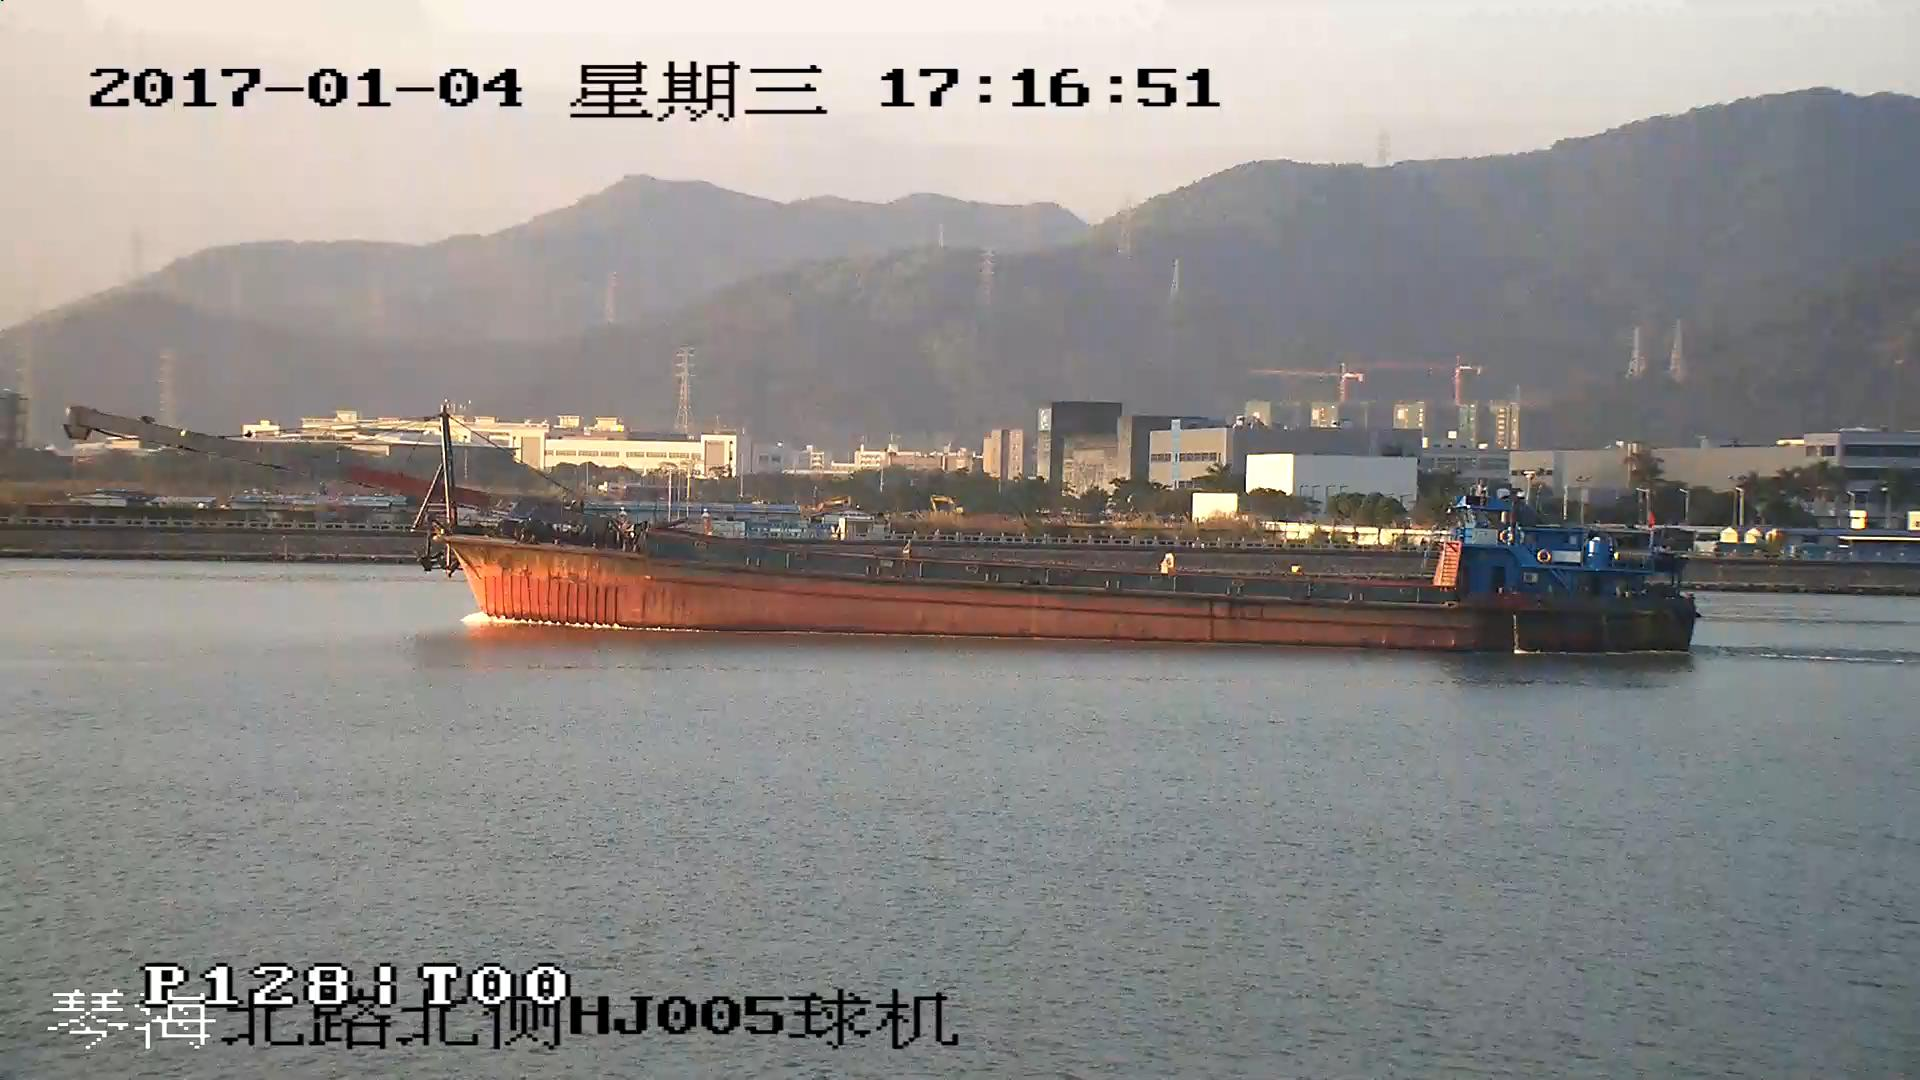bulk cargo carrier: (72, 407, 1697, 653)
